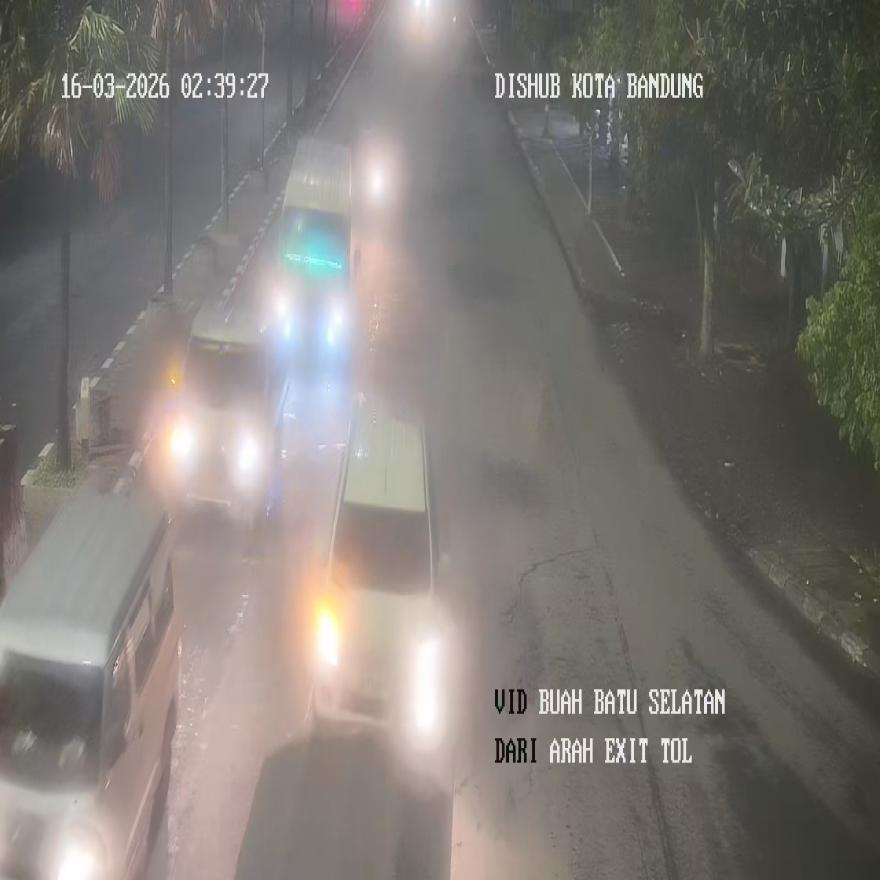Mobil: (0, 491, 181, 878), (308, 392, 450, 756), (165, 297, 286, 533), (274, 136, 360, 363)
